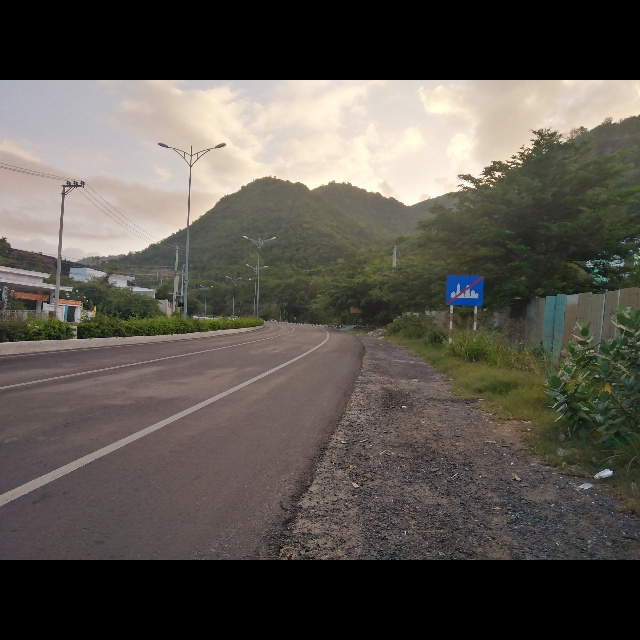Hết khu đông dân cư: (445, 273, 484, 307)
